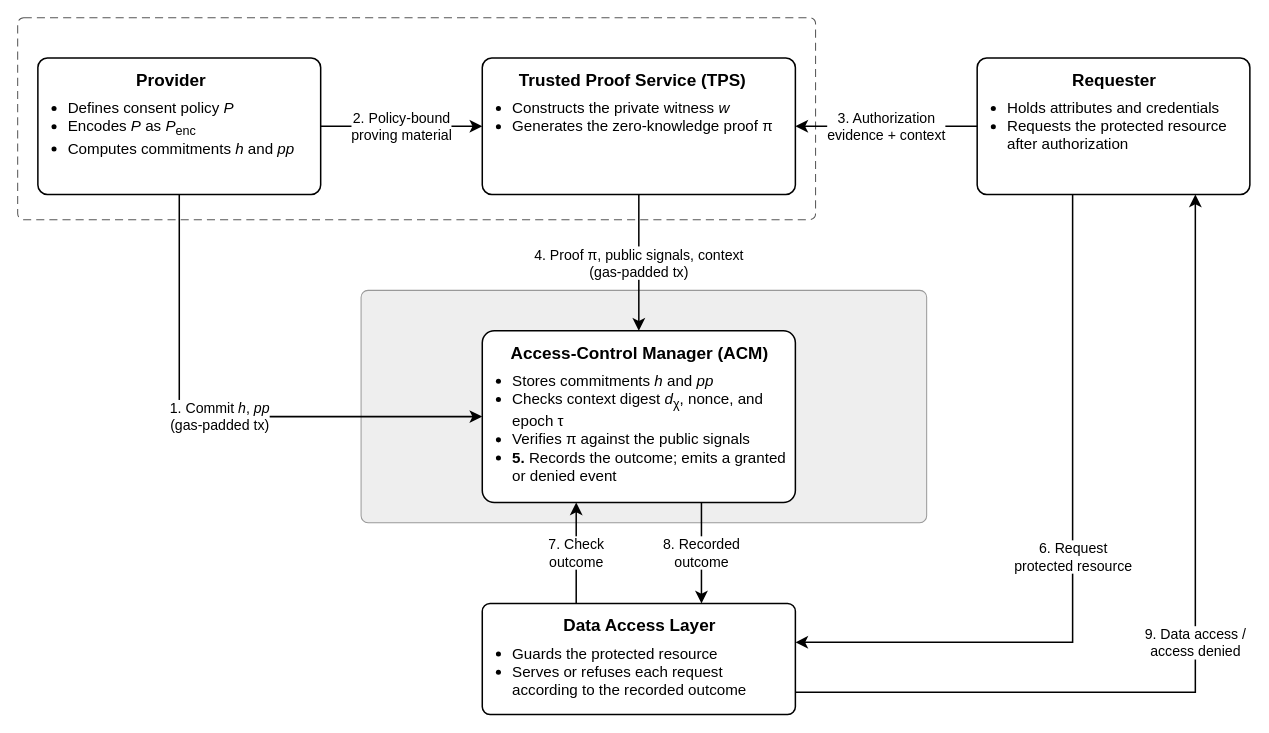
Image size: 1269x733. Some labels were removed from this diagram. Here are the shapes that lost their labels. From the top down, the box of each, then its label:
(17, 17, 816, 220): Provider–TPS boundary (off-chain)
(360, 289, 927, 523): Public chain (visible to any observer)
